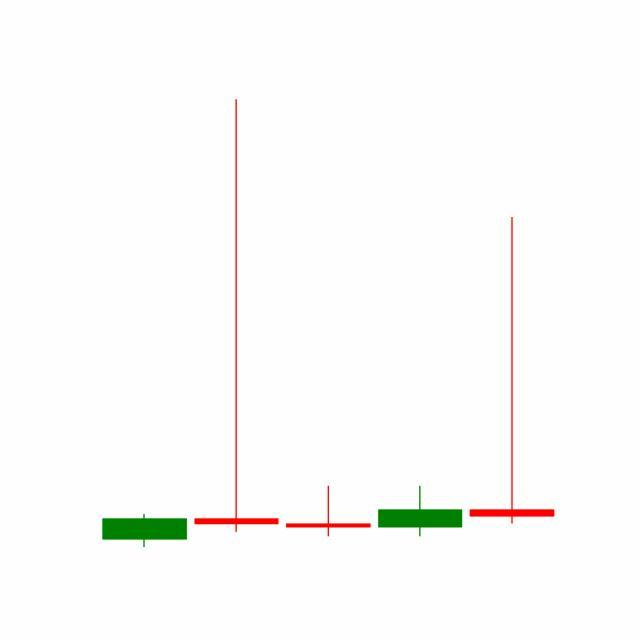Spinning Top: (466, 214, 559, 528)
